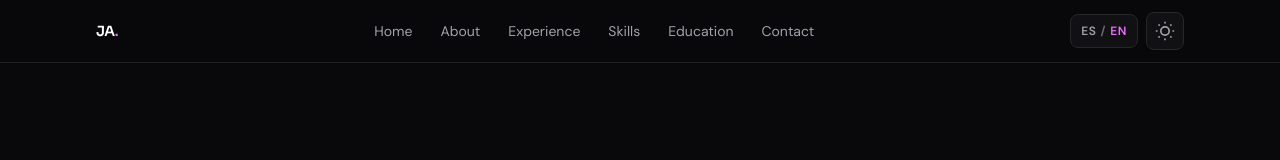
Test case: Navbar › toggles the locale back from en to es
Click the button with aria-label "Switch to Spanish" at (1104, 31), box [1070,14,1138,48]
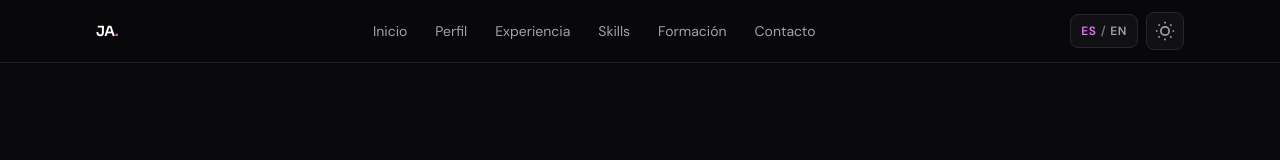
Expected: the button with aria-label "Cambiar a inglés" is shown, [1070,14,1138,48]
